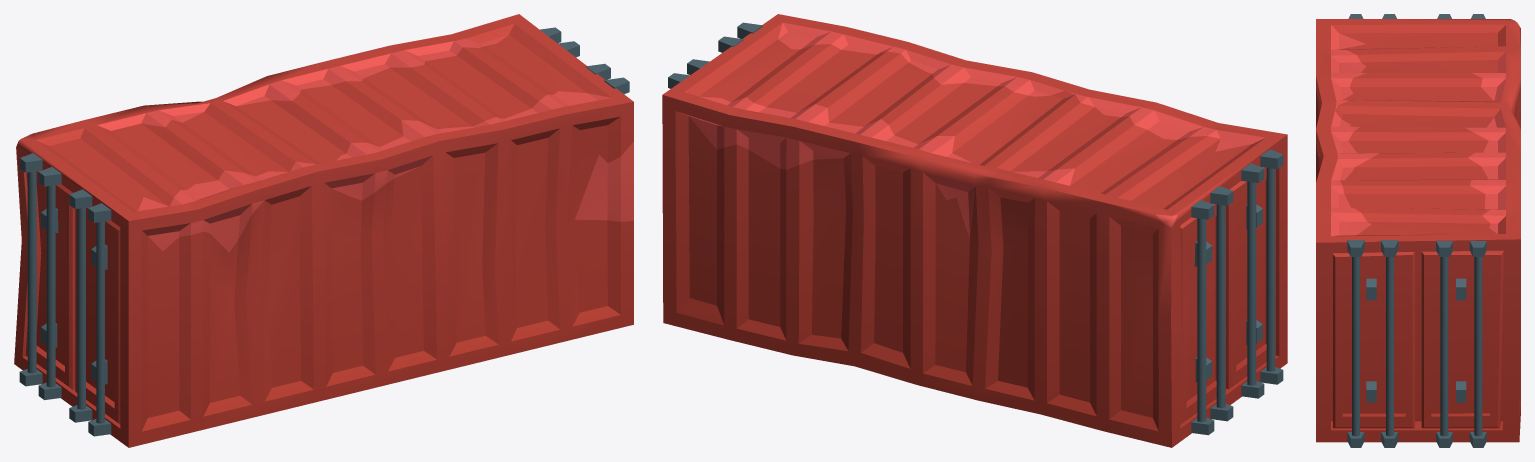
Rendered from DC_Red.fbx.
3 views of the same model, side by side, from view 1: azimuth 30°, elevation 25°; view 2: azimuth 150°, elevation 25°; view 3: azimuth 270°, elevation 25° (orthographic). The views are drawn at different scales.
Parts seen in each view (by area): view 1: DC_Red; view 2: DC_Red; view 3: DC_Red.
Part boxes in pixels (x1,y1,x2,y2): DC_Red: (14, 14, 633, 447); DC_Red: (662, 14, 1287, 447); DC_Red: (1316, 14, 1520, 447).
Size of the model in its own units: 648 by 262 by 240.
